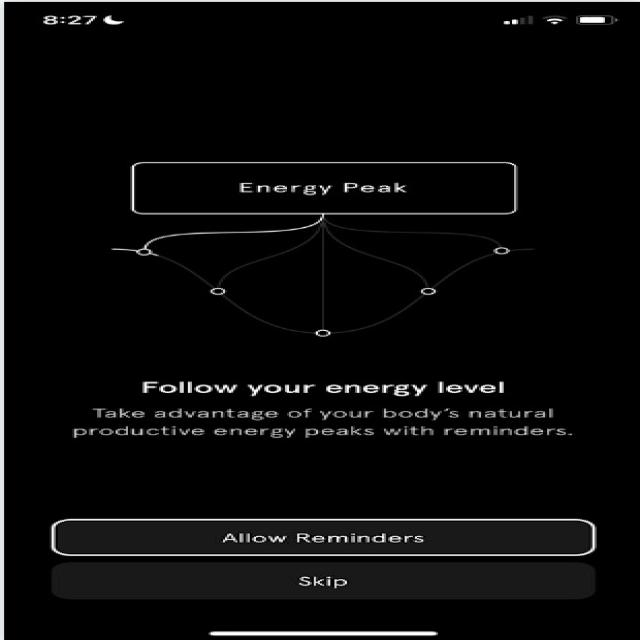button: (30, 510, 616, 559), (30, 562, 618, 608)
image: (50, 126, 578, 353)
spacer: (151, 456, 495, 504)
text: (33, 368, 616, 449)
